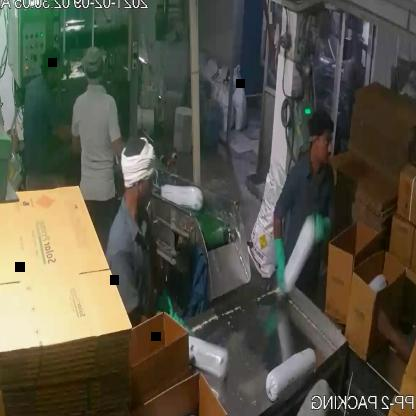glove: (267, 228, 291, 303), (305, 207, 340, 249)
no_glove: (368, 291, 416, 375)
